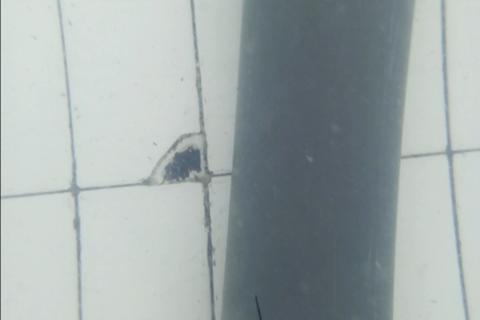keretakan: (255, 293, 262, 320)
